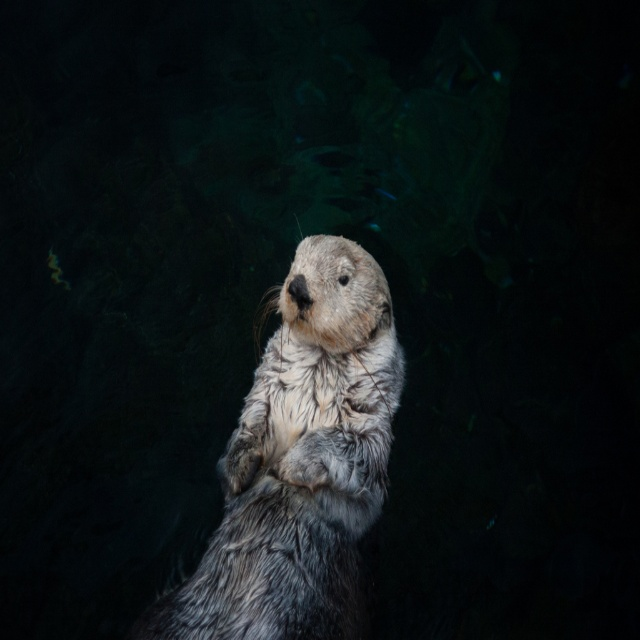Otter: (148, 240, 405, 617)
